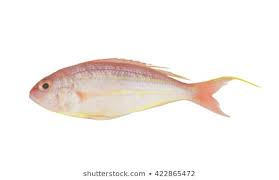Ikan Kerisi: (25, 58, 243, 121)
